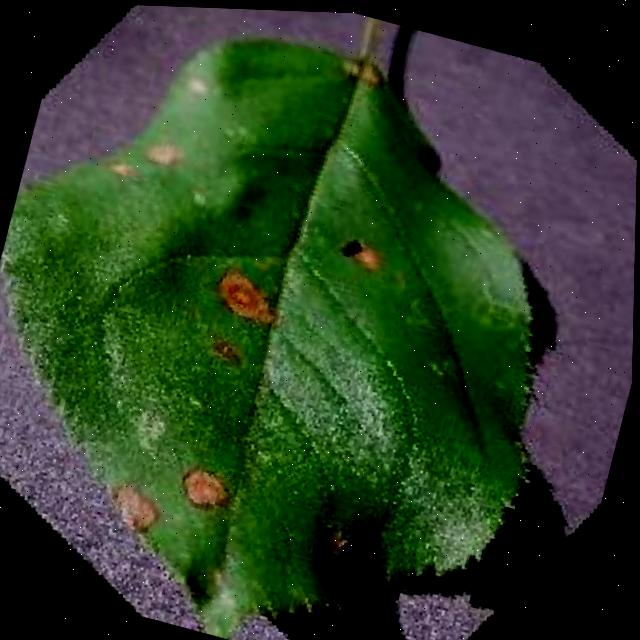black_rot: (163, 247, 303, 402), (313, 213, 407, 295), (94, 465, 176, 552), (162, 447, 244, 529), (287, 490, 366, 574), (135, 125, 185, 184)
